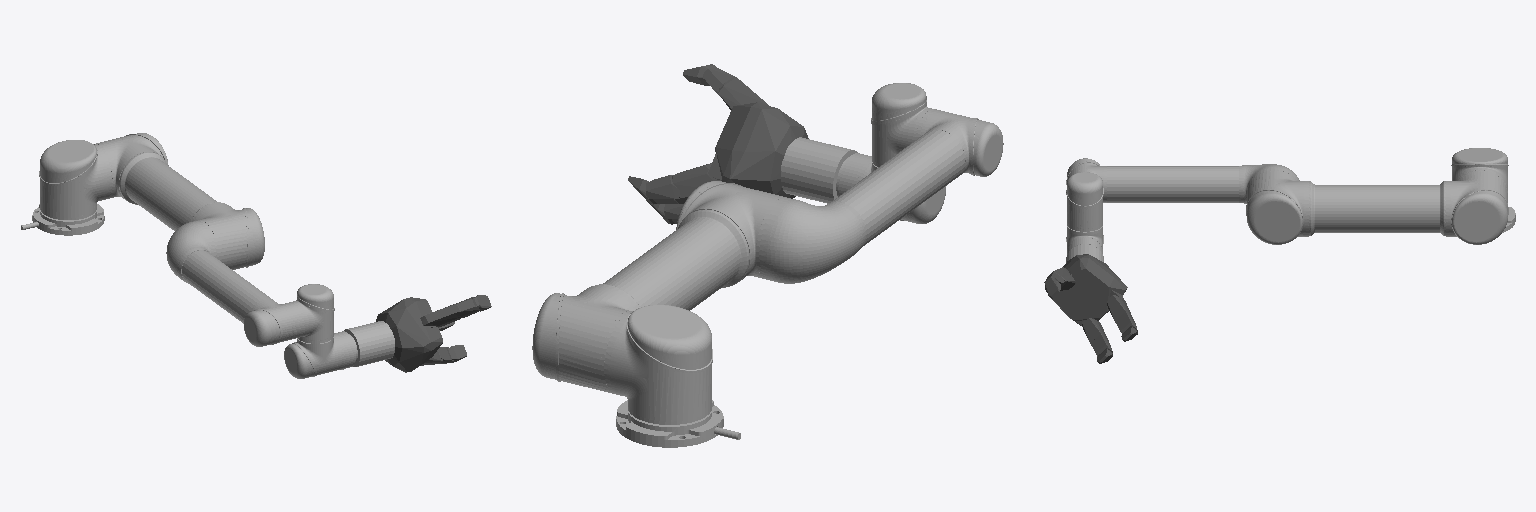
--- What the picture shows (computed from the rendered views, not written in the file) ---
The picture shows the robot from 3 angles, left to right: view 1: azimuth 30°, elevation 25°; view 2: azimuth 150°, elevation 25°; view 3: azimuth 270°, elevation 25°; orthographic projection.
Robot: ur5 — 26 links, 25 joints (17 revolute, 8 fixed); root link world; default pose: all joints at 0.
Visible links, largest first — view 1: upper_arm_link, forearm_link, shoulder_link, palm, wrist_2_link, wrist_1_link, adapter_link, base_link, finger_middle_link_1; view 2: upper_arm_link, forearm_link, shoulder_link, palm, wrist_1_link, adapter_link, base_link, wrist_2_link, finger_1_link_1, finger_middle_link_1, wrist_3_link, finger_1_link_2; view 3: upper_arm_link, forearm_link, palm, wrist_1_link, shoulder_link.
Link boxes in pixels (x1,y1,x2,y2): upper_arm_link: [94, 133, 264, 269]; forearm_link: [166, 221, 304, 346]; shoulder_link: [39, 140, 112, 219]; palm: [376, 297, 442, 372]; wrist_2_link: [284, 335, 344, 378]; wrist_1_link: [293, 284, 334, 343]; adapter_link: [344, 321, 394, 366]; base_link: [21, 204, 104, 235]; finger_middle_link_1: [420, 303, 461, 327]; upper_arm_link: [532, 181, 786, 393]; forearm_link: [759, 109, 1003, 283]; shoulder_link: [604, 305, 712, 424]; palm: [715, 102, 808, 198]; wrist_1_link: [871, 83, 931, 166]; adapter_link: [781, 137, 857, 203]; base_link: [616, 400, 740, 447]; wrist_2_link: [857, 158, 945, 223]; finger_1_link_1: [672, 163, 720, 203]; finger_middle_link_1: [718, 76, 768, 109]; wrist_3_link: [836, 153, 871, 196]; finger_1_link_2: [646, 175, 680, 203]; upper_arm_link: [1246, 170, 1508, 244]; forearm_link: [1066, 158, 1299, 203]; palm: [1048, 254, 1127, 325]; wrist_1_link: [1066, 172, 1103, 231]; shoulder_link: [1451, 148, 1508, 190].
Bounding box of the posed robot: 0.5929 × 0.9748 × 0.2728 m (x, y, z).
Meshes: 12 distinct files referenced, 20 mesh visuals loaded (5 binary STL, 7 Collada DAE).

The robot description file, URDF, robot "ur5":
<?xml version="1.0" ?>
<!-- =================================================================================== -->
<!-- |    This document was autogenerated by xacro from universal_robot/ur_description/urdf/ur5_robot_.urdf.xacro | -->
<!-- |    EDITING THIS FILE BY HAND IS NOT RECOMMENDED                                 | -->
<!-- =================================================================================== -->
<robot name="ur5" xmlns:xacro="http://ros.org/wiki/xacro">
  <!-- measured from model -->
  <!--property name="shoulder_height" value="0.089159" /-->
  <!--property name="shoulder_offset" value="0.13585" /-->
  <!-- shoulder_offset - elbow_offset + wrist_1_length = 0.10915 -->
  <!--property name="upper_arm_length" value="0.42500" /-->
  <!--property name="elbow_offset" value="0.1197" /-->
  <!-- CAD measured -->
  <!--property name="forearm_length" value="0.39225" /-->
  <!--property name="wrist_1_length" value="0.093" /-->
  <!-- CAD measured -->
  <!--property name="wrist_2_length" value="0.09465" /-->
  <!-- In CAD this distance is 0.930, but in the spec it is 0.09465 -->
  <!--property name="wrist_3_length" value="0.0823" /-->
  <!-- manually measured -->
  <link name="base_link">
    <visual>
      <geometry>
        <mesh filename="package://ur_description/meshes/ur5/visual/base.dae"/>
      </geometry>
      <material name="LightGrey">
        <color rgba="0.7 0.7 0.7 1.0"/>
      </material>
    </visual>
    <collision>
      <geometry>
        <mesh filename="package://ur_description/meshes/ur5/collision/base.stl"/>
      </geometry>
    </collision>
    <inertial>
      <mass value="4.0"/>
      <origin rpy="0 0 0" xyz="0.0 0.0 0.0"/>
      <inertia ixx="0.00443333156" ixy="0.0" ixz="0.0" iyy="0.00443333156" iyz="0.0" izz="0.0072"/>
    </inertial>
  </link>
  <joint name="shoulder_pan_joint" type="revolute">
    <parent link="base_link"/>
    <child link="shoulder_link"/>
    <origin rpy="0.0 0.0 0.0" xyz="0.0 0.0 0.089159"/>
    <axis xyz="0 0 1"/>
    <limit effort="150.0" lower="-4.71238898038469" upper="1.5707963267948966" velocity="3.15"/>
    <dynamics damping="0.0" friction="0.0"/>
  </joint>
  <link name="shoulder_link">
    <visual>
      <geometry>
        <mesh filename="package://ur_description/meshes/ur5/visual/shoulder.dae"/>
      </geometry>
      <material name="LightGrey">
        <color rgba="0.7 0.7 0.7 1.0"/>
      </material>
    </visual>
    <collision>
      <geometry>
        <mesh filename="package://ur_description/meshes/ur5/collision/shoulder.stl"/>
      </geometry>
    </collision>
    <inertial>
      <mass value="3.7"/>
      <origin rpy="0 0 0" xyz="0.0 0.0 0.0"/>
      <inertia ixx="0.010267495893" ixy="0.0" ixz="0.0" iyy="0.010267495893" iyz="0.0" izz="0.00666"/>
    </inertial>
  </link>
  <joint name="shoulder_lift_joint" type="revolute">
    <parent link="shoulder_link"/>
    <child link="upper_arm_link"/>
    <origin rpy="0.0 1.57079632679 0.0" xyz="0.0 0.13585 0.0"/>
    <axis xyz="0 1 0"/>
    <limit effort="150.0" lower="-3.14159265359" upper="3.14159265359" velocity="3.15"/>
    <dynamics damping="0.0" friction="0.0"/>
  </joint>
  <link name="upper_arm_link">
    <visual>
      <geometry>
        <mesh filename="package://ur_description/meshes/ur5/visual/upperarm.dae"/>
      </geometry>
      <material name="LightGrey">
        <color rgba="0.7 0.7 0.7 1.0"/>
      </material>
    </visual>
    <collision>
      <geometry>
        <mesh filename="package://ur_description/meshes/ur5/collision/upperarm.stl"/>
      </geometry>
    </collision>
    <inertial>
      <mass value="8.393"/>
      <origin rpy="0 0 0" xyz="0.0 0.0 0.28"/>
      <inertia ixx="0.22689067591" ixy="0.0" ixz="0.0" iyy="0.22689067591" iyz="0.0" izz="0.0151074"/>
    </inertial>
  </link>
  <joint name="elbow_joint" type="revolute">
    <parent link="upper_arm_link"/>
    <child link="forearm_link"/>
    <origin rpy="0.0 0.0 0.0" xyz="0.0 -0.1197 0.425"/>
    <axis xyz="0 1 0"/>
    <limit effort="150.0" lower="-3.14159265359" upper="3.14159265359" velocity="3.15"/>
    <dynamics damping="0.0" friction="0.0"/>
  </joint>
  <link name="forearm_link">
    <visual>
      <geometry>
        <mesh filename="package://ur_description/meshes/ur5/visual/forearm.dae"/>
      </geometry>
      <material name="LightGrey">
        <color rgba="0.7 0.7 0.7 1.0"/>
      </material>
    </visual>
    <collision>
      <geometry>
        <mesh filename="package://ur_description/meshes/ur5/collision/forearm.stl"/>
      </geometry>
    </collision>
    <inertial>
      <mass value="2.275"/>
      <origin rpy="0 0 0" xyz="0.0 0.0 0.25"/>
      <inertia ixx="0.049443313556" ixy="0.0" ixz="0.0" iyy="0.049443313556" iyz="0.0" izz="0.004095"/>
    </inertial>
  </link>
  <joint name="wrist_1_joint" type="revolute">
    <parent link="forearm_link"/>
    <child link="wrist_1_link"/>
    <origin rpy="0.0 1.57079632679 0.0" xyz="0.0 0.0 0.39225"/>
    <axis xyz="0 1 0"/>
    <limit effort="28.0" lower="-3.14159265359" upper="3.14159265359" velocity="3.2"/>
    <dynamics damping="0.0" friction="0.0"/>
  </joint>
  <link name="wrist_1_link">
    <visual>
      <geometry>
        <mesh filename="package://ur_description/meshes/ur5/visual/wrist1.dae"/>
      </geometry>
      <material name="LightGrey">
        <color rgba="0.7 0.7 0.7 1.0"/>
      </material>
    </visual>
    <collision>
      <geometry>
        <mesh filename="package://ur_description/meshes/ur5/collision/wrist1.stl"/>
      </geometry>
    </collision>
    <inertial>
      <mass value="1.219"/>
      <origin rpy="0 0 0" xyz="0.0 0.0 0.0"/>
      <inertia ixx="0.111172755531" ixy="0.0" ixz="0.0" iyy="0.111172755531" iyz="0.0" izz="0.21942"/>
    </inertial>
  </link>
  <joint name="wrist_2_joint" type="revolute">
    <parent link="wrist_1_link"/>
    <child link="wrist_2_link"/>
    <origin rpy="0.0 0.0 0.0" xyz="0.0 0.093 0.0"/>
    <axis xyz="0 0 1"/>
    <limit effort="28.0" lower="-3.14159265359" upper="3.14159265359" velocity="3.2"/>
    <dynamics damping="0.0" friction="0.0"/>
  </joint>
  <link name="wrist_2_link">
    <visual>
      <geometry>
        <mesh filename="package://ur_description/meshes/ur5/visual/wrist2.dae"/>
      </geometry>
      <material name="LightGrey">
        <color rgba="0.7 0.7 0.7 1.0"/>
      </material>
    </visual>
    <collision>
      <geometry>
        <mesh filename="package://ur_description/meshes/ur5/collision/wrist2.stl"/>
      </geometry>
    </collision>
    <inertial>
      <mass value="1.219"/>
      <origin rpy="0 0 0" xyz="0.0 0.0 0.0"/>
      <inertia ixx="0.111172755531" ixy="0.0" ixz="0.0" iyy="0.111172755531" iyz="0.0" izz="0.21942"/>
    </inertial>
  </link>
  <joint name="wrist_3_joint" type="revolute">
    <parent link="wrist_2_link"/>
    <child link="wrist_3_link"/>
    <origin rpy="0.0 0.0 0.0" xyz="0.0 0.0 0.09465"/>
    <axis xyz="0 1 0"/>
    <limit effort="28.0" lower="-3.14159265359" upper="3.14159265359" velocity="3.2"/>
    <dynamics damping="0.0" friction="0.0"/>
  </joint>
  <link name="wrist_3_link">
    <visual>
      <geometry>
        <mesh filename="package://ur_description/meshes/ur5/visual/wrist3.dae"/>
      </geometry>
      <material name="LightGrey">
        <color rgba="0.7 0.7 0.7 1.0"/>
      </material>
    </visual>
    <collision>
      <geometry>
        <mesh filename="package://ur_description/meshes/ur5/collision/wrist3.stl"/>
      </geometry>
    </collision>
    <inertial>
      <mass value="0.1879"/>
      <origin rpy="0 0 0" xyz="0.0 0.0 0.0"/>
      <inertia ixx="0.0171364731454" ixy="0.0" ixz="0.0" iyy="0.0171364731454" iyz="0.0" izz="0.033822"/>
    </inertial>
  </link>
  <joint name="ee_fixed_joint" type="fixed">
    <parent link="wrist_3_link"/>
    <child link="ee_link"/>
    <origin rpy="0.0 0.0 1.57079632679" xyz="0.0 0.0823 0.0"/>
  </joint>
  <link name="ee_link">
    <collision>
      <geometry>
        <box size="0.01 0.01 0.01"/>
      </geometry>
      <origin rpy="0 0 0" xyz="-0.01 0 0"/>
    </collision>
    <inertial>
      <mass value="0"/>
      <origin rpy="0 0 0" xyz="0 0 0"/>
      <inertia ixx="0" ixy="0" ixz="0" iyy="0" iyz="0" izz="0"/>
    </inertial>
  </link>
  <!-- nothing to do here at the moment -->
  <!-- ROS base_link to UR 'Base' Coordinates transform -->
  <link name="base">
    <inertial>
      <mass value="0"/>
      <origin rpy="0 0 0" xyz="0 0 0"/>
      <inertia ixx="0" ixy="0" ixz="0" iyy="0" iyz="0" izz="0"/>
    </inertial>
  </link>
  <joint name="base_link-base_fixed_joint" type="fixed">
    <!-- NOTE: this rotation is only needed as long as base_link itself is
                 not corrected wrt the real robot (ie: rotated over 180
                 degrees)
      -->
    <origin rpy="0 0 -3.14159265359" xyz="0 0 0"/>
    <parent link="base_link"/>
    <child link="base"/>
  </joint>
  <!-- Frame coincident with all-zeros TCP on UR controller -->
  <link name="tool0">
    <inertial>
      <mass value="0"/>
      <origin rpy="0 0 0" xyz="0 0 0"/>
      <inertia ixx="0" ixy="0" ixz="0" iyy="0" iyz="0" izz="0"/>
    </inertial>
  </link>
  <joint name="wrist_3_link-tool0_fixed_joint" type="fixed">
    <origin rpy="-1.57079632679 0 0" xyz="0 0.0823 0"/>
    <parent link="wrist_3_link"/>
    <child link="tool0"/>
  </joint>
  <link name="world"/>
  <joint name="world_joint" type="fixed">
    <parent link="world"/>
    <child link="base_link"/>
    <origin rpy="0.0 0.0 -1.5707963267948966" xyz="0.0 0.0 0.0"/>
  </joint>

  <!-- HAND PART -->
  <link name="finger_1_link_0">
    <visual>
      <origin rpy="0 0 0" xyz="0.020 0 0"/>
      <geometry>
        <mesh filename="package://ur_description/meshes/s-model_articulated/visual/link_0.STL"/>
      </geometry>
      <material name="dark_gray">
        <color rgba="0.4 0.4 0.4 1"/>
      </material>
    </visual>
    <collision>
      <origin rpy="0 0 0" xyz="0.020 0 0"/>
      <geometry>
        <mesh filename="package://ur_description/meshes/s-model_articulated/collision/link_0.STL"/>
      </geometry>
      <material name="yellow">
        <color rgba="0 1 1 1"/>
      </material>
    </collision>
    <inertial>
      <origin rpy="0 0 0" xyz="0 0 0"/>
      <mass value="0.05"/>
      <inertia ixx="0.01" ixy="0" ixz="0" iyy="0.01" iyz="0" izz="0.01"/>
    </inertial>
  </link>
  <link name="finger_1_link_1">
    <visual>
      <origin rpy="0 0 -0.52" xyz="0.050 -.028 0"/>
      <geometry>
        <mesh filename="package://ur_description/meshes/s-model_articulated/visual/link_1.STL"/>
      </geometry>
      <material name="dark_gray"/>
    </visual>
    <collision>
      <origin rpy="0 0 -0.52" xyz="0.050 -.028 0"/>
      <geometry>
        <mesh filename="package://ur_description/meshes/s-model_articulated/collision/link_1.STL"/>
      </geometry>
      <material name="yellow"/>
    </collision>
    <inertial>
      <origin rpy="0 0 0" xyz="0 0 0"/>
      <mass value="0.15"/>
      <inertia ixx="0.01" ixy="0" ixz="0" iyy="0.012756" iyz="0" izz="0.01"/>
    </inertial>
  </link>
  <link name="finger_1_link_2">
    <!--
			NOTE: This link has an offset in the z-direction based on the models that were
			used to generate grap-it poses.  With the offset below the model appears visually
			correct, but it is suspect.
			-->
    <visual>
      <origin rpy="0 0 0" xyz="0.039 0 0.0075"/>
      <geometry>
        <mesh filename="package://ur_description/meshes/s-model_articulated/visual/link_2.STL"/>
      </geometry>
      <material name="dark_gray"/>
    </visual>
    <collision>
      <origin rpy="0 0 0" xyz="0.039 0 0.0075"/>
      <geometry>
        <mesh filename="package://ur_description/meshes/s-model_articulated/collision/link_2.STL"/>
      </geometry>
      <material name="yellow"/>
    </collision>
    <inertial>
      <origin rpy="0 0 0" xyz="0 0 0"/>
      <mass value="0.15"/>
      <inertia ixx="0.01" ixy="0" ixz="0" iyy="0.012756" iyz="0" izz="0.01"/>
    </inertial>
  </link>
  <link name="finger_1_link_3">
    <visual>
      <origin rpy="0 0 0.52" xyz="0 0 0"/>
      <geometry>
        <mesh filename="package://ur_description/meshes/s-model_articulated/visual/link_3.STL"/>
      </geometry>
      <material name="dark_gray"/>
    </visual>
    <collision>
      <origin rpy="0 0 0.52" xyz="0 0 0"/>
      <geometry>
        <mesh filename="package://ur_description/meshes/s-model_articulated/collision/link_3.STL"/>
      </geometry>
      <material name="yellow"/>
    </collision>
    <inertial>
      <origin rpy="0 0 0" xyz="0 0 0"/>
      <mass value="0.05"/>
      <inertia ixx="0.01" ixy="0" ixz="0" iyy="0.01" iyz="0" izz="0.01"/>
    </inertial>
    <contact>
        <lateral_friction value="1.0"/>
        <spinning_friction value="1.5"/>
        <!--inertia_scaling value="3.0"/-->
    </contact>
  </link>
  <joint name="finger_1_joint_1" type="revolute">
    <parent link="finger_1_link_0"/>
    <child link="finger_1_link_1"/>
    <axis xyz="0 0 1"/>
    <origin rpy="0 0 0" xyz="0.020 0 0"/>
    <limit effort="100" lower="0" upper="1.22173" velocity="100"/>
  </joint>
  <joint name="finger_1_joint_2" type="revolute">
    <parent link="finger_1_link_1"/>
    <child link="finger_1_link_2"/>
    <axis xyz="0 0 1"/>
    <origin rpy="0 0 -0.52" xyz="0.050 -.028 0"/>
    <limit effort="100" lower="0" upper="1.5708" velocity="100"/>
  </joint>
  <joint name="finger_1_joint_3" type="revolute">
    <parent link="finger_1_link_2"/>
    <child link="finger_1_link_3"/>
    <axis xyz="0 0 1"/>
    <origin rpy="0 0 0" xyz="0.039 0 0"/>
    <limit effort="100" lower="-0.9599" upper="0.7505" velocity="100"/>
  </joint>
  <link name="finger_2_link_0">
    <visual>
      <origin rpy="0 0 0" xyz="0.020 0 0"/>
      <geometry>
        <mesh filename="package://ur_description/meshes/s-model_articulated/visual/link_0.STL"/>
      </geometry>
      <material name="dark_gray"/>
    </visual>
    <collision>
      <origin rpy="0 3.1416 -1.57" xyz="-0.0455 0.0414 0.036"/>
      <geometry>
        <mesh filename="package://ur_description/meshes/s-model_articulated/collision/link_0.STL"/>
      </geometry>
      <material name="yellow"/>
    </collision>
    <inertial>
      <origin rpy="0 0 0" xyz="0 0 0"/>
      <mass value="0.05"/>
      <inertia ixx="0.01" ixy="0" ixz="0" iyy="0.01" iyz="0" izz="0.01"/>
    </inertial>
  </link>
  <link name="finger_2_link_1">
    <visual>
      <origin rpy="0 0 -0.52" xyz="0.050 -.028 0"/>
      <geometry>
        <mesh filename="package://ur_description/meshes/s-model_articulated/visual/link_1.STL"/>
      </geometry>
      <material name="dark_gray"/>
    </visual>
    <collision>
      <origin rpy="0 0 -0.52" xyz="0.050 -.028 0"/>
      <geometry>
        <mesh filename="package://ur_description/meshes/s-model_articulated/collision/link_1.STL"/>
      </geometry>
      <material name="yellow"/>
    </collision>
    <inertial>
      <origin rpy="0 0 0" xyz="0 0 0"/>
      <mass value="0.15"/>
      <inertia ixx="0.01" ixy="0" ixz="0" iyy="0.012756" iyz="0" izz="0.01"/>
    </inertial>
  </link>
  <link name="finger_2_link_2">
    <!--
			NOTE: This link has an offset in the z-direction based on the models that were
			used to generate grap-it poses.  With the offset below the model appears visually
			correct, but it is suspect.
			-->
    <visual>
      <origin rpy="0 0 0" xyz="0.039 0 0.0075"/>
      <geometry>
        <mesh filename="package://ur_description/meshes/s-model_articulated/visual/link_2.STL"/>
      </geometry>
      <material name="dark_gray"/>
    </visual>
    <collision>
      <origin rpy="0 0 0" xyz="0.039 0 0.0075"/>
      <geometry>
        <mesh filename="package://ur_description/meshes/s-model_articulated/collision/link_2.STL"/>
      </geometry>
      <material name="yellow"/>
    </collision>
    <inertial>
      <origin rpy="0 0 0" xyz="0 0 0"/>
      <mass value="0.15"/>
     <inertia ixx="0.01" ixy="0" ixz="0" iyy="0.012756" iyz="0" izz="0.01"/>
    </inertial>
  </link>
  <link name="finger_2_link_3">
    <visual>
      <origin rpy="0 0 0.52" xyz="0 0 0"/>
      <geometry>
        <mesh filename="package://ur_description/meshes/s-model_articulated/visual/link_3.STL"/>
      </geometry>
      <material name="dark_gray"/>
    </visual>
    <collision>
      <origin rpy="0 0 0.52" xyz="0 0 0"/>
      <geometry>
        <mesh filename="package://ur_description/meshes/s-model_articulated/collision/link_3.STL"/>
      </geometry>
      <material name="yellow"/>
    </collision>
    <inertial>
      <origin rpy="0 0 0" xyz="0 0 0"/>
      <mass value="0.05"/>
      <inertia ixx="0.01" ixy="0" ixz="0" iyy="0.01" iyz="0" izz="0.01"/>
    </inertial>
    <contact>
        <lateral_friction value="1.0"/>
        <spinning_friction value="1.5"/>
        <!--inertia_scaling value="3.0"/-->
    </contact>
  </link>
  <joint name="finger_2_joint_1" type="revolute">
    <parent link="finger_2_link_0"/>
    <child link="finger_2_link_1"/>
    <axis xyz="0 0 1"/>
    <origin rpy="0 0 0" xyz="0.020 0 0"/>
    <limit effort="100" lower="0" upper="1.22173" velocity="100"/>
  </joint>
  <joint name="finger_2_joint_2" type="revolute">
    <parent link="finger_2_link_1"/>
    <child link="finger_2_link_2"/>
    <axis xyz="0 0 1"/>
    <origin rpy="0 0 -0.52" xyz="0.050 -.028 0"/>
    <limit effort="100" lower="0" upper="1.5708" velocity="100"/>
  </joint>
  <joint name="finger_2_joint_3" type="revolute">
    <parent link="finger_2_link_2"/>
    <child link="finger_2_link_3"/>
    <axis xyz="0 0 1"/>
    <origin rpy="0 0 0" xyz="0.039 0 0"/>
    <limit effort="100" lower="-0.9599" upper="0.7505" velocity="100"/>
  </joint>
  <link name="finger_middle_link_0">
    <visual>
      <origin rpy="0 0 0" xyz="0.020 0 0"/>
      <geometry>
        <mesh filename="package://ur_description/meshes/s-model_articulated/visual/link_0.STL"/>
      </geometry>
      <material name="dark_gray"/>
    </visual>
    <collision>
      <origin rpy="0 0 0" xyz="0.020 0 0"/>
      <geometry>
        <mesh filename="package://ur_description/meshes/s-model_articulated/collision/link_0.STL"/>
      </geometry>
      <material name="yellow"/>
    </collision>
    <inertial>
      <origin rpy="0 0 0" xyz="0 0 0"/>
      <mass value="0.05"/>
      <inertia ixx="0.01" ixy="0" ixz="0" iyy="0.01" iyz="0" izz="0.01"/>
    </inertial>
  </link>
  <link name="finger_middle_link_1">
    <visual>
      <origin rpy="0 0 -0.52" xyz="0.050 -.028 0"/>
      <geometry>
        <mesh filename="package://ur_description/meshes/s-model_articulated/visual/link_1.STL"/>
      </geometry>
      <material name="dark_gray"/>
    </visual>
    <collision>
      <origin rpy="0 0 -0.52" xyz="0.050 -.028 0"/>
      <geometry>
        <mesh filename="package://ur_description/meshes/s-model_articulated/collision/link_1.STL"/>
      </geometry>
      <material name="yellow"/>
    </collision>
    <inertial>
      <origin rpy="0 0 0" xyz="0 0 0"/>
      <mass value="0.15"/>
      <inertia ixx="0.01" ixy="0" ixz="0" iyy="0.012756" iyz="0" izz="0.01"/>
    </inertial>
  </link>
  <link name="finger_middle_link_2">
    <!--
			NOTE: This link has an offset in the z-direction based on the models that were
			used to generate grap-it poses.  With the offset below the model appears visually
			correct, but it is suspect.
			-->
    <visual>
      <origin rpy="0 0 0" xyz="0.039 0 0.0075"/>
      <geometry>
        <mesh filename="package://ur_description/meshes/s-model_articulated/visual/link_2.STL"/>
      </geometry>
      <material name="dark_gray"/>
    </visual>
    <collision>
      <origin rpy="0 0 0" xyz="0.039 0 0.0075"/>
      <geometry>
        <mesh filename="package://ur_description/meshes/s-model_articulated/collision/link_2.STL"/>
      </geometry>
      <material name="yellow"/>
    </collision>
    <inertial>
      <origin rpy="0 0 0" xyz="0 0 0"/>
      <mass value="0.15"/>
      <inertia ixx="0.01" ixy="0" ixz="0" iyy="0.012756" iyz="0" izz="0.01"/>
    </inertial>
  </link>
  <link name="finger_middle_link_3">
    <visual>
      <origin rpy="0 0 0.52" xyz="0 0 0"/>
      <geometry>
        <mesh filename="package://ur_description/meshes/s-model_articulated/visual/link_3.STL"/>
      </geometry>
      <material name="dark_gray"/>
    </visual>
    <collision>
      <origin rpy="0 0 0.52" xyz="0 0 0"/>
      <geometry>
        <mesh filename="package://ur_description/meshes/s-model_articulated/collision/link_3.STL"/>
      </geometry>
      <material name="yellow"/>
    </collision>
    <inertial>
      <origin rpy="0 0 0" xyz="0 0 0"/>
      <mass value="0.05"/>
      <inertia ixx="0.01" ixy="0" ixz="0" iyy="0.01" iyz="0" izz="0.01"/>
    </inertial>
    <contact>
        <lateral_friction value="1.0"/>
        <spinning_friction value="1.5"/>
        <!-- inertia_scaling value="3.0"/-->
    </contact>
  </link>
  <joint name="finger_middle_joint_1" type="revolute">
    <parent link="finger_middle_link_0"/>
    <child link="finger_middle_link_1"/>
    <axis xyz="0 0 1"/>
    <origin rpy="0 0 0" xyz="0.020 0 0"/>
    <limit effort="100" lower="0" upper="1.22173" velocity="100"/>
    <!--dynamics damping="1" friction="0" /-->
  </joint>
  <joint name="finger_middle_joint_2" type="revolute">
    <parent link="finger_middle_link_1"/>
    <child link="finger_middle_link_2"/>
    <axis xyz="0 0 1"/>
    <origin rpy="0 0 -0.52" xyz="0.050 -.028 0"/>
    <limit effort="100" lower="0" upper="1.5708" velocity="100"/>
    <!--dynamics damping="1" friction="0" /-->
  </joint>
  <joint name="finger_middle_joint_3" type="revolute">
    <parent link="finger_middle_link_2"/>
    <child link="finger_middle_link_3"/>
    <axis xyz="0 0 1"/>
    <origin rpy="0 0 0" xyz="0.039 0 0"/>
    <limit effort="100" lower="-0.9599" upper="0.7505" velocity="100"/>
    <!--dynamics damping="1" friction="0" /-->
  </joint>
  <link name="palm">
    <visual>
      <geometry>
        <mesh filename="package://ur_description/meshes/s-model_articulated/visual/palm.STL"/>
      </geometry>
      <material name="dark_gray"/>
    </visual>
    <collision>
      <geometry>
        <mesh filename="package://ur_description/meshes/s-model_articulated/collision/palm.STL"/>
      </geometry>
      <material name="yellow"/>
    </collision>
    <inertial>
      <origin rpy="0 0 0" xyz="0 0 0"/>
      <mass value="1.3"/>
      <inertia ixx="0.0035" ixy="0" ixz="0" iyy="0.0035" iyz="0" izz="0.0035"/>
    </inertial>
  </link>
  <inertial>
    <origin rpy="0 0 0" xyz="0 0 0"/>
    <mass value="1.3"/>
    <inertia ixx="0.006012" ixy="0.000079" ixz="-0.00024" iyy="0.012892" iyz="0" izz="0.002435"/>
  </inertial>
  <joint name="palm_finger_1_joint" type="revolute">
    <parent link="palm"/>
    <child link="finger_1_link_0"/>
    <axis xyz="0 1 0"/>
    <origin rpy="0 3.1416 -1.57" xyz="-0.0455 0.0214 0.036"/>  0.0455 0.0214 0
    <limit effort="100" lower="-0.16" upper="0.25" velocity="100"/>
  </joint>
  <joint name="palm_finger_2_joint" type="revolute">
    <parent link="palm"/>
    <child link="finger_2_link_0"/>
    <axis xyz="0 1 0"/>
    <origin rpy="0 3.1416 -1.57" xyz="-0.0455 0.0214 -0.036"/>
    <limit effort="100" lower="-0.25" upper="0.16" velocity="100"/>
  </joint>
  <joint name="palm_finger_middle_joint" type="fixed">
    <parent link="palm"/>
    <child link="finger_middle_link_0"/>
    <axis xyz="0 0 1"/>
    <origin rpy="0 0 1.57" xyz="0.0455 0.0214 0"/>
  </joint>

  <joint name="tool0-adapter_fixed_joint" type="fixed">
    <origin rpy="0 0 0" xyz="0 0 0"/>
    <parent link="tool0"/>
    <child link="adapter_link"/>
  </joint>
  <link name="adapter_link">
    <visual>
      <origin rpy="0 0 0" xyz="0.0 0.0 0.042"/>
      <geometry>
        <cylinder length="0.084" radius="0.04"/>
      </geometry>
      <material name="LightGrey"/>
    </visual>
    <collision>
      <origin rpy="0 0 0" xyz="0.0 0.0 0.042"/>
      <geometry>
        <cylinder length="0.084" radius="0.04"/>
      </geometry>
    </collision>
    <inertial>
      <mass value="0.1"/>
      <origin rpy="0 0 0" xyz="0.0 0.0 0.042"/>
      <inertia ixx="4.520831525e-05" ixy="0.0" ixz="0.0" iyy="4.520831525e-05" iyz="0.0" izz="8e-05"/>
    </inertial>
  </link>
  <joint name="adapter-palm_fixed_joint" type="fixed">
    <origin rpy="1.5707963267948966 0 2.356194490192345" xyz="0 0 0.129"/>
    <parent link="adapter_link"/>
    <child link="palm"/>
  </joint>


  <!-- tool -->
  <link name="tool">
    <inertial>
      <mass value="0"/>
      <origin rpy="0 0 0" xyz="0 0 0"/>
      <inertia ixx="0" ixy="0" ixz="0" iyy="0" iyz="0" izz="0"/>
    </inertial>
  </link>

  <joint name="tool_joint" type="fixed">
    <origin rpy="0 0 -0.785398163397" xyz="0 0 0.284"/>
    <parent link="tool0"/>
    <child link="tool"/>
  </joint>

</robot>
